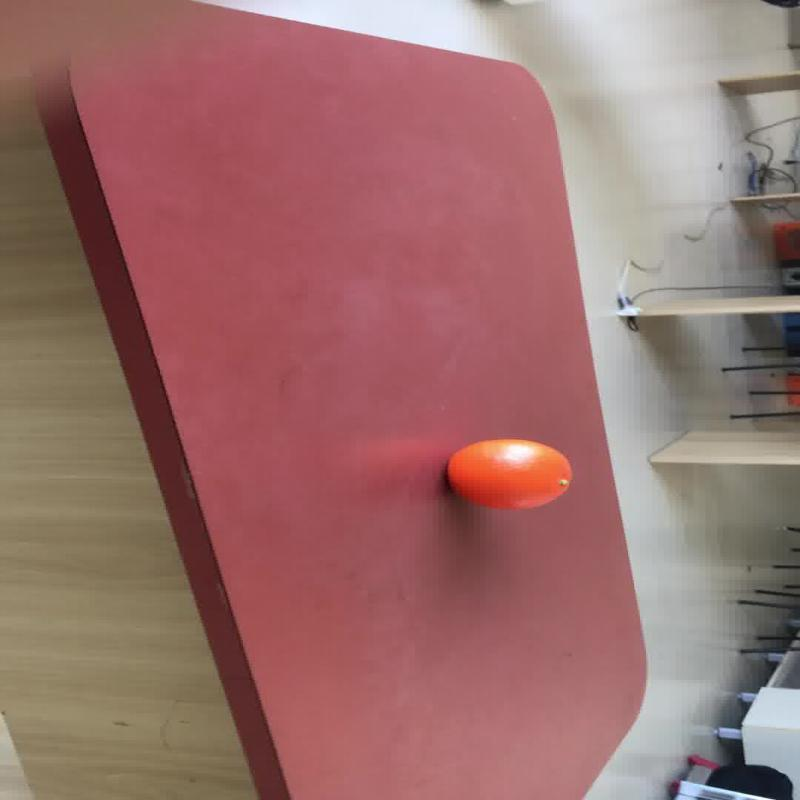orange: (444, 438, 572, 510)
